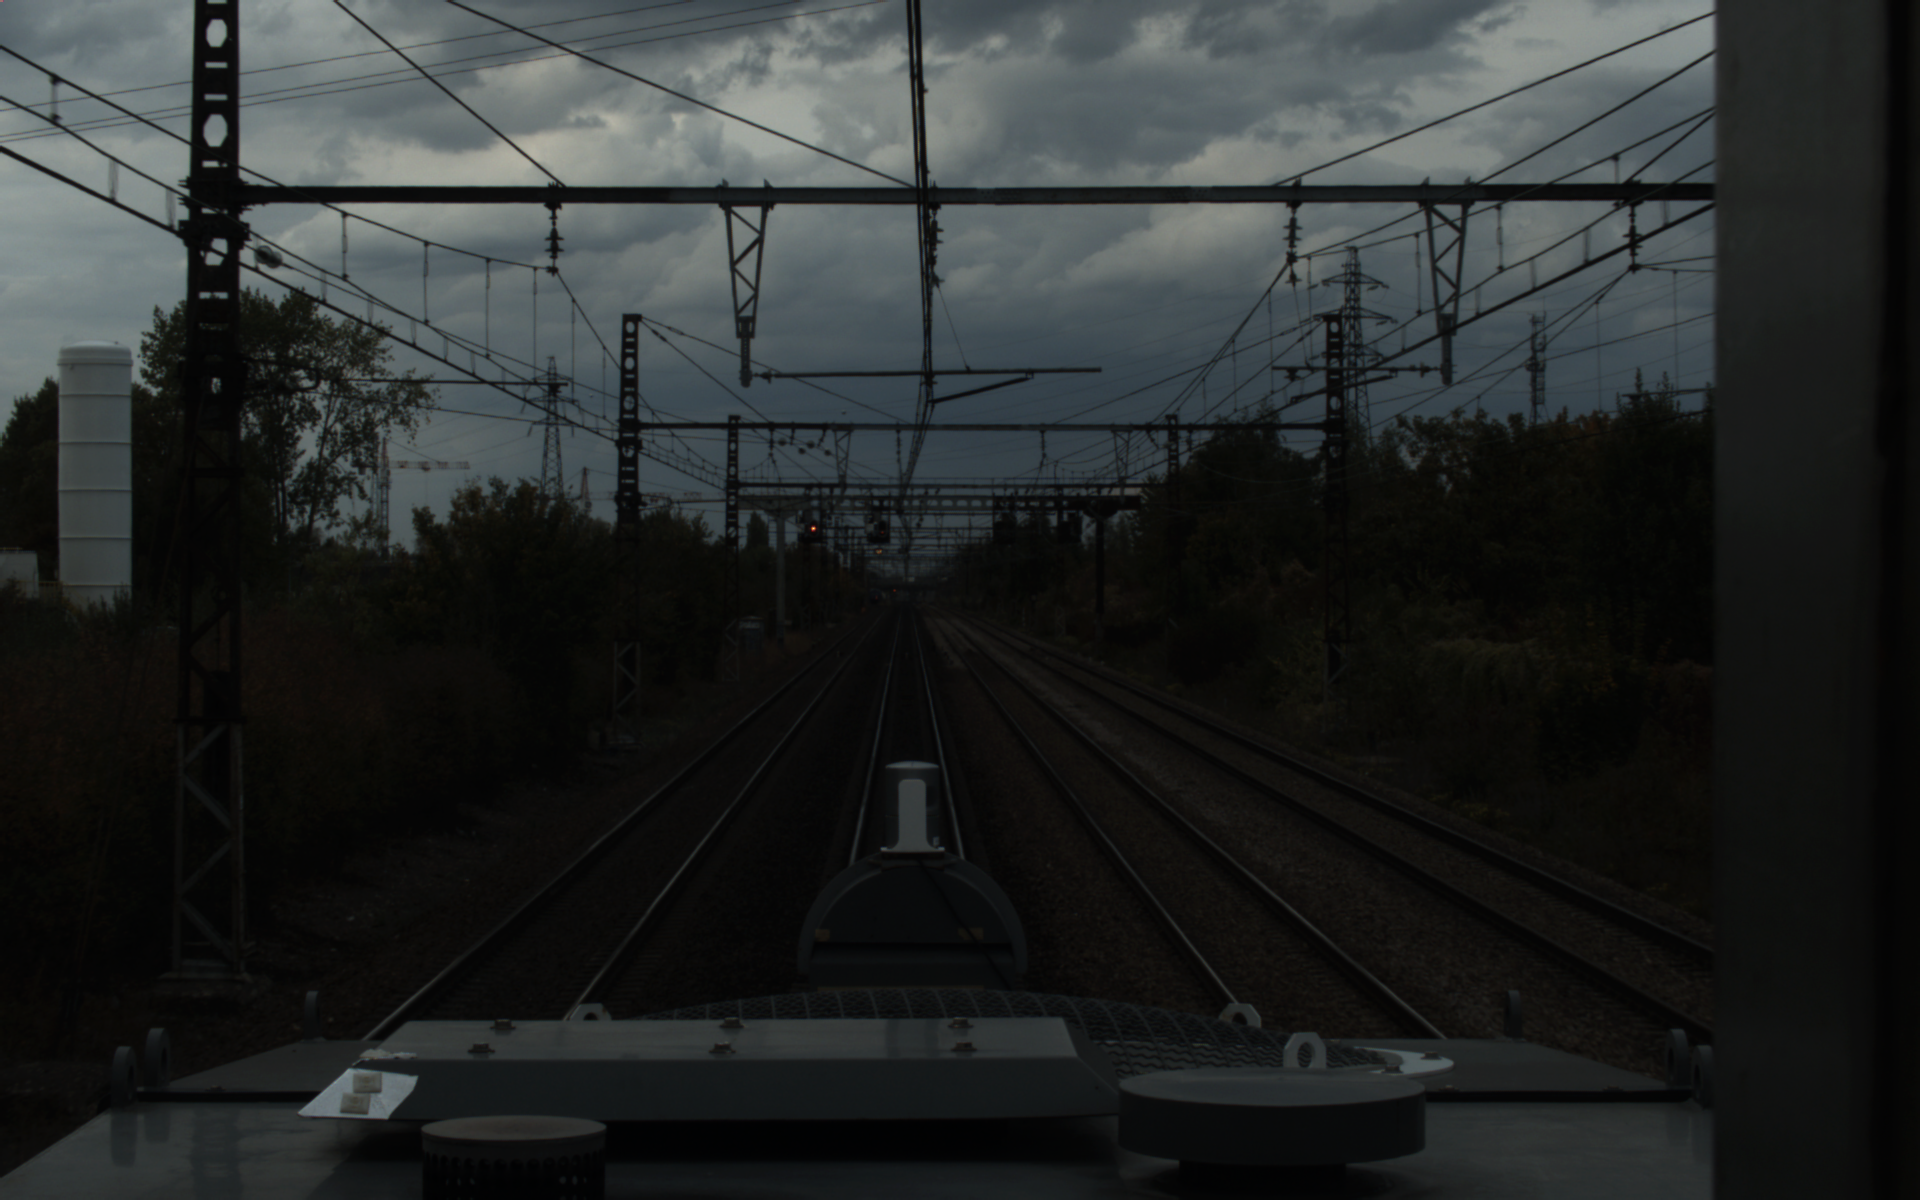Blinking: (876, 518, 887, 536)
Fixed: (806, 518, 818, 536)
